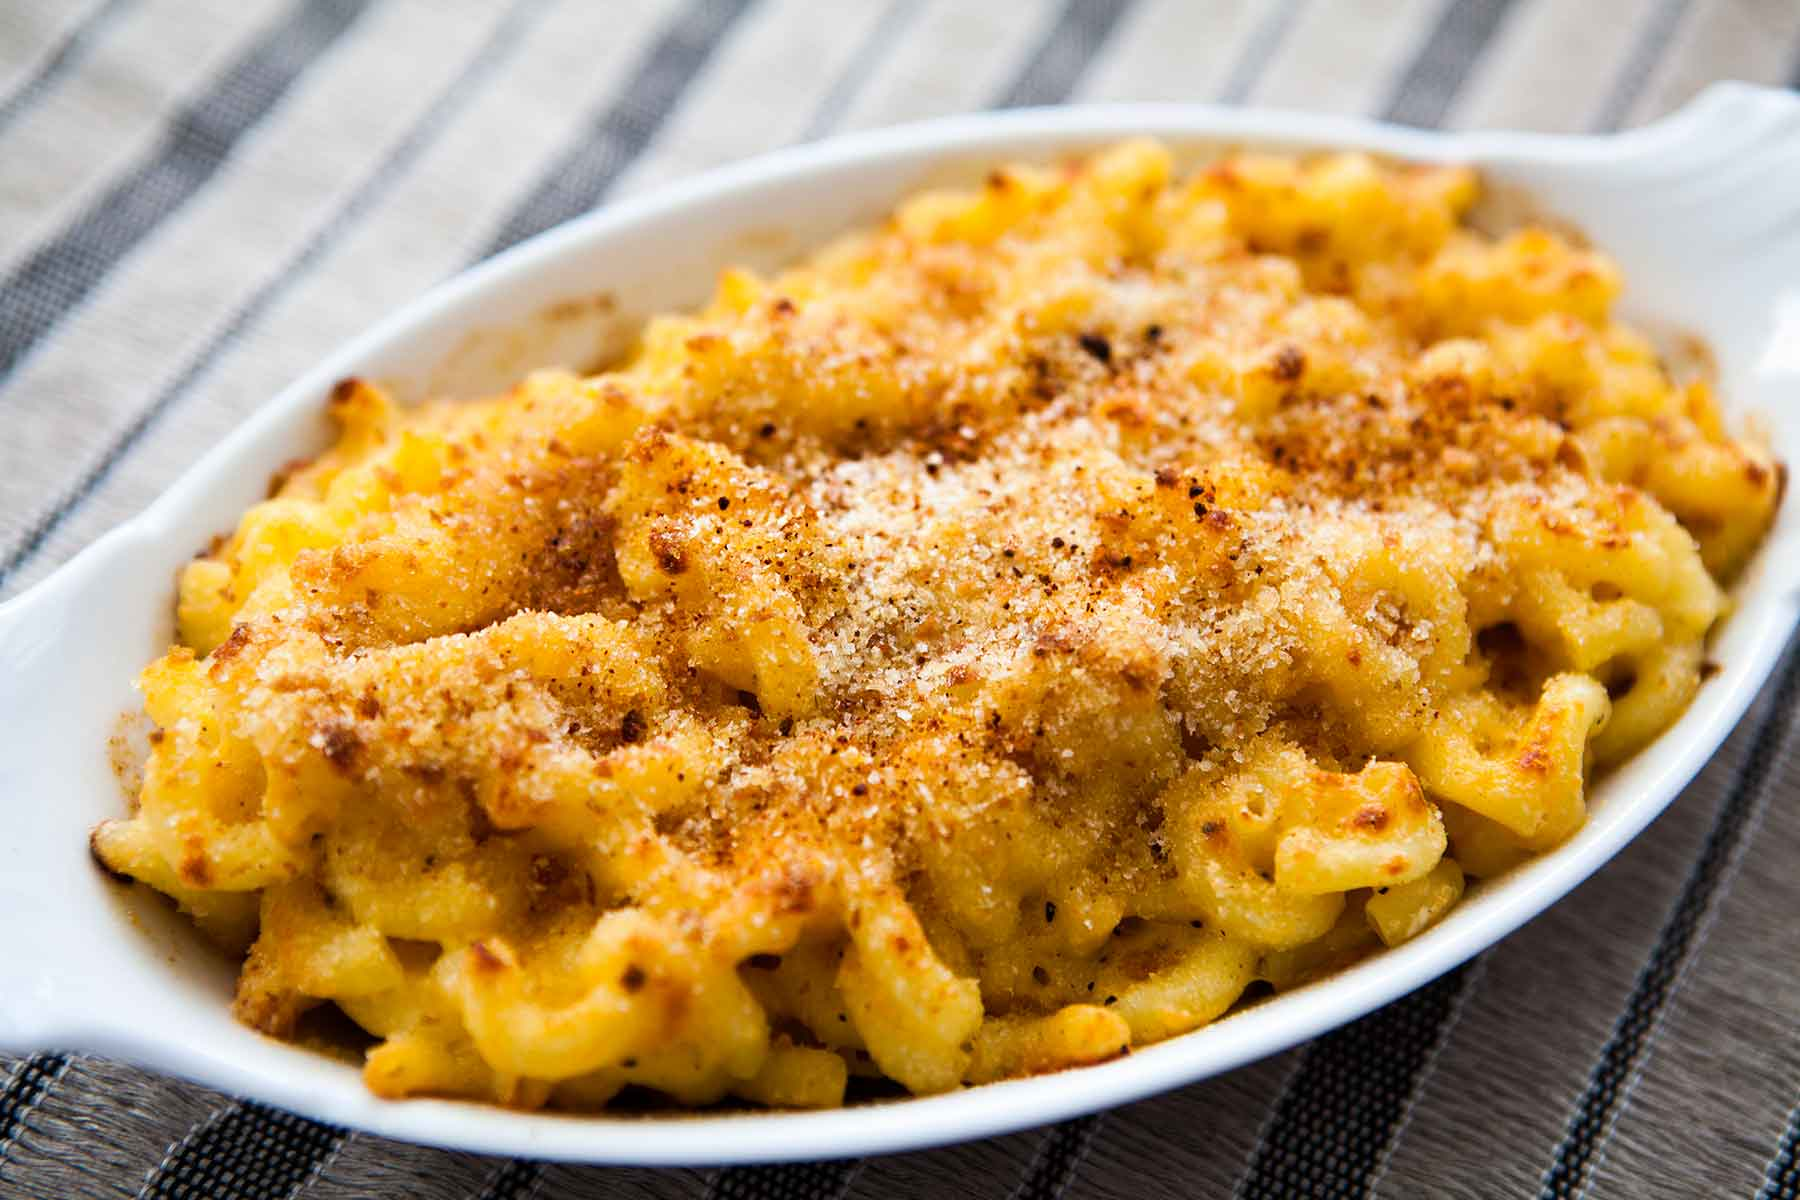macncheese: (11, 412, 1158, 1189)
